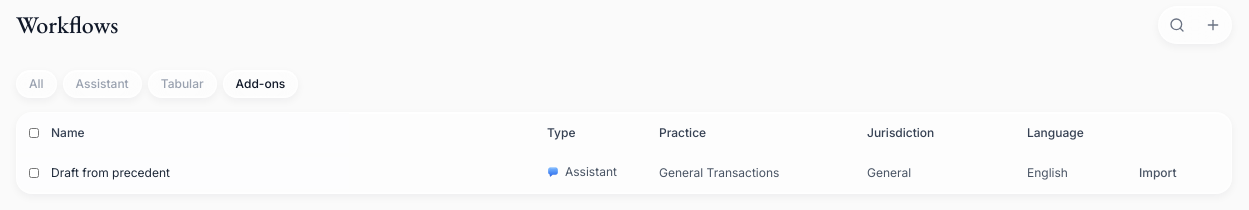
WorkflowList pack toolbar › uses a plain row import action and keeps the bulk import pill
Step 1. Click the checkbox named "Select Draft from precedent" → (34, 173), box x1=29 y1=168 x2=39 y2=178
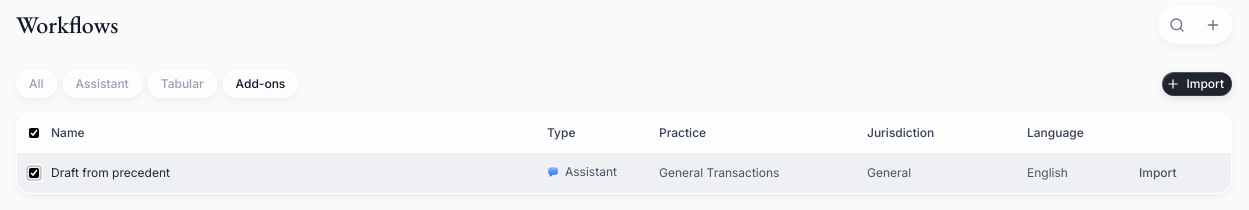
expect the number of buttons "Import" is 2: met, box x1=1162 y1=72 x2=1232 y2=96; x1=1139 y1=165 x2=1176 y2=181
